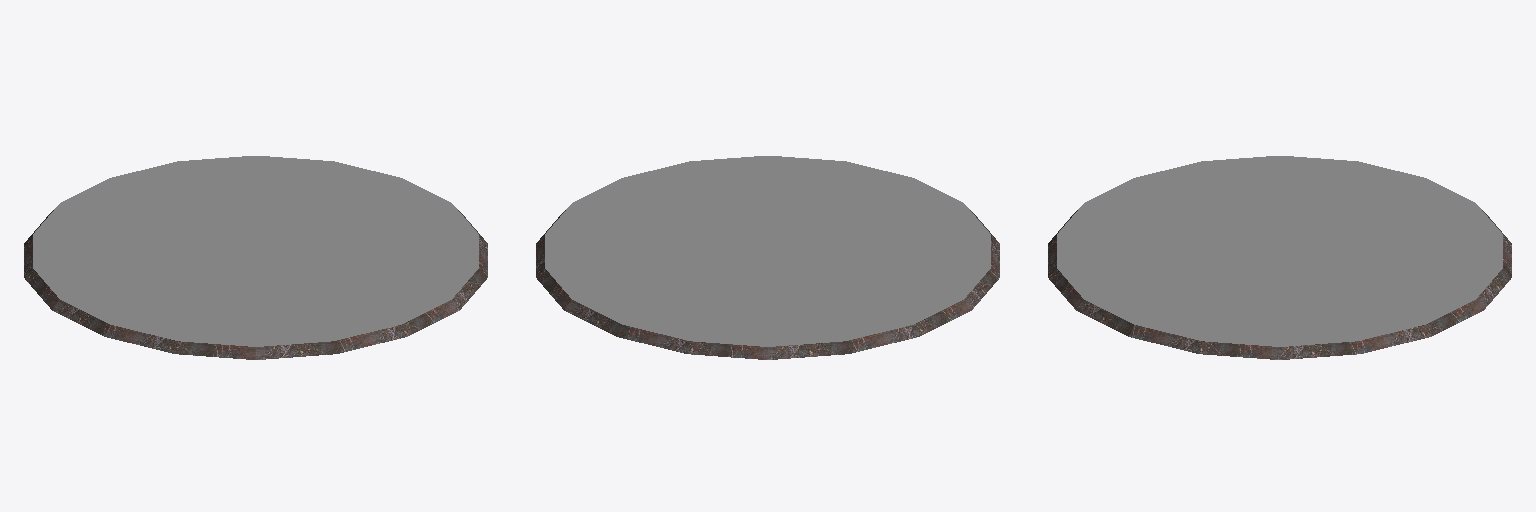
The picture shows the model from 3 angles: view 1: azimuth 30°, elevation 25°; view 2: azimuth 150°, elevation 25°; view 3: azimuth 270°, elevation 25°; orthographic projection.
Visible parts, largest first — view 1: Cylinder001; view 2: Cylinder001; view 3: Cylinder001.
Boxes of the visible parts, <box> form: Cylinder001: <box>24,156,487,359</box>; Cylinder001: <box>536,156,999,359</box>; Cylinder001: <box>1048,156,1511,359</box>.
Size of the model in its own units: 10.39 by 0.2296 by 10.23.
Materials: 2 (1 with a texture image).